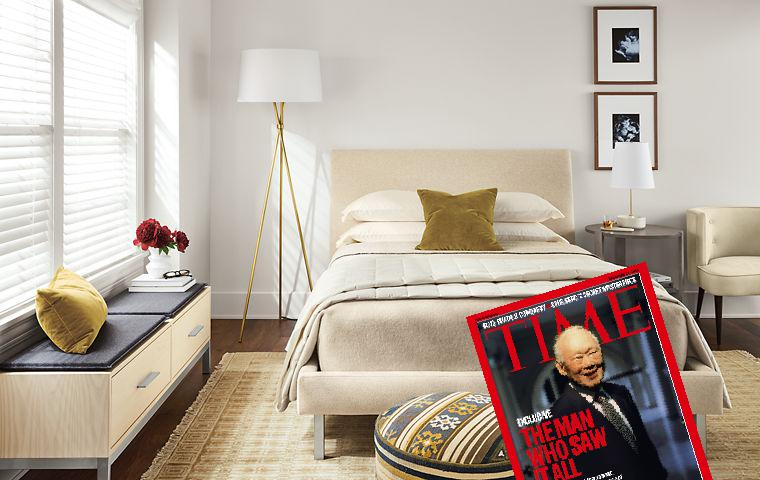times: (463, 260, 713, 480)
